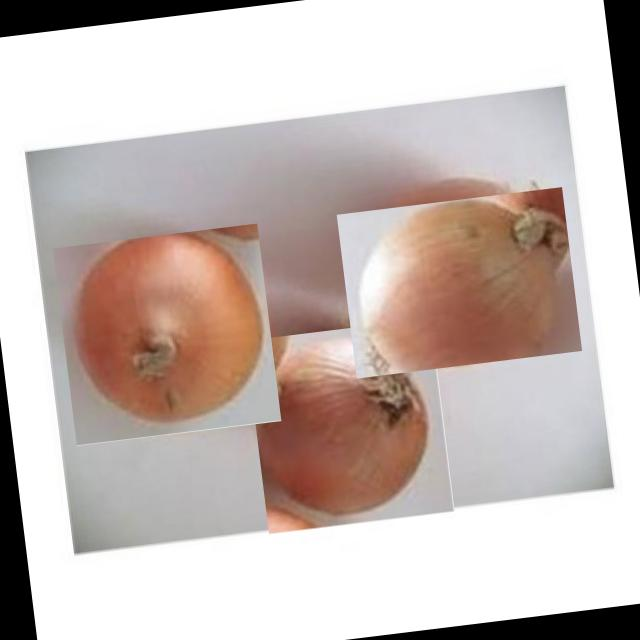Onion: (53, 222, 279, 448), (336, 186, 583, 379), (243, 319, 456, 532)
